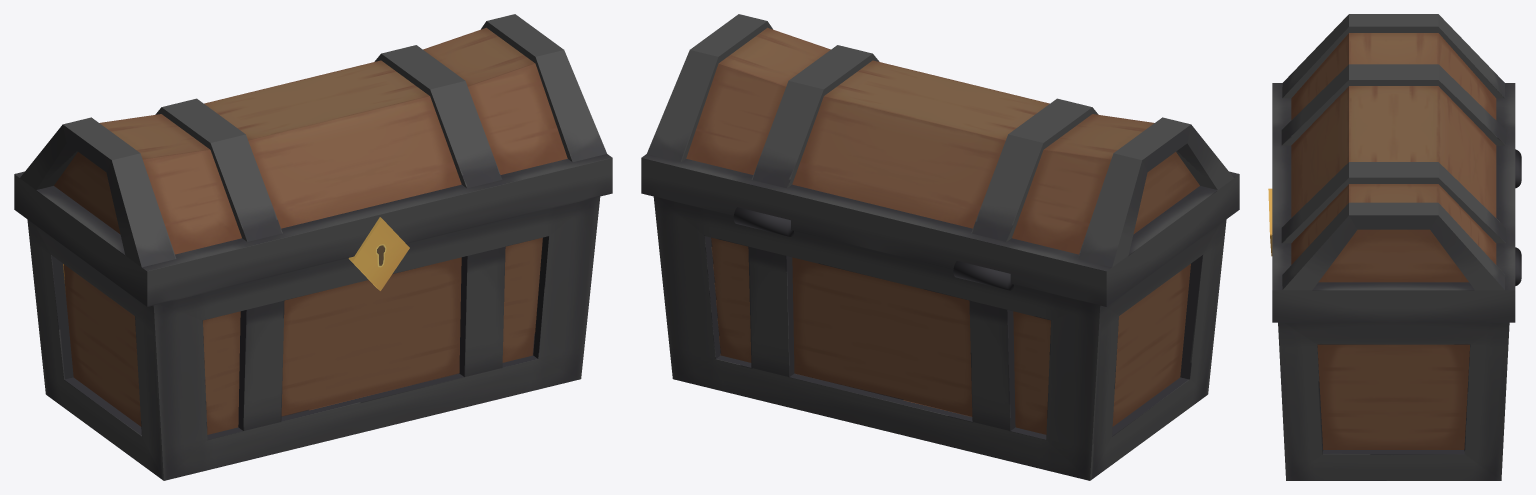
Rendered from chestt.fbx.
3 renders of one model, left to right at view 1: azimuth 30°, elevation 25°; view 2: azimuth 150°, elevation 25°; view 3: azimuth 270°, elevation 25°, orthographic. The views are drawn at different scales.
Parts seen in each view (by area): view 1: tutup, bawah; view 2: tutup, bawah; view 3: tutup, bawah.
Boxes of the visible parts, x1,y1,x2,y2 form: tutup: [14, 14, 612, 306]; bawah: [27, 196, 600, 480]; tutup: [641, 14, 1239, 306]; bawah: [653, 196, 1226, 480]; tutup: [1272, 14, 1515, 322]; bawah: [1268, 149, 1521, 480].
Size of the model in its own units: 471 by 290 by 243.
Materials: 1 (1 with a texture image).
